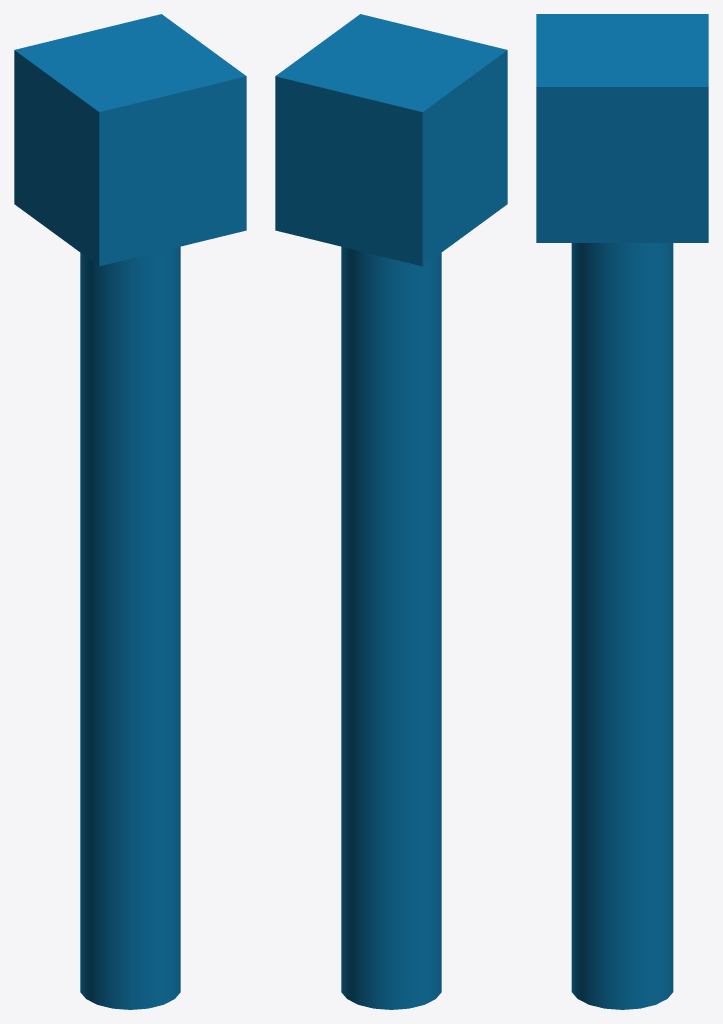
Rendered from Scale_Z.fbx.
3 views of the same model, side by side, from view 1: azimuth 30°, elevation 25°; view 2: azimuth 150°, elevation 25°; view 3: azimuth 270°, elevation 25° (orthographic).
Parts seen in each view (by area): view 1: Z_Axis2; view 2: Z_Axis2; view 3: Z_Axis2.
Part boxes in pixels (left/top/right/bottom): Z_Axis2: left=14, top=14, right=246, bottom=1009; Z_Axis2: left=275, top=14, right=507, bottom=1009; Z_Axis2: left=536, top=14, right=708, bottom=1009.
Bounding box in the file's own units: 10 × 60 × 10.
